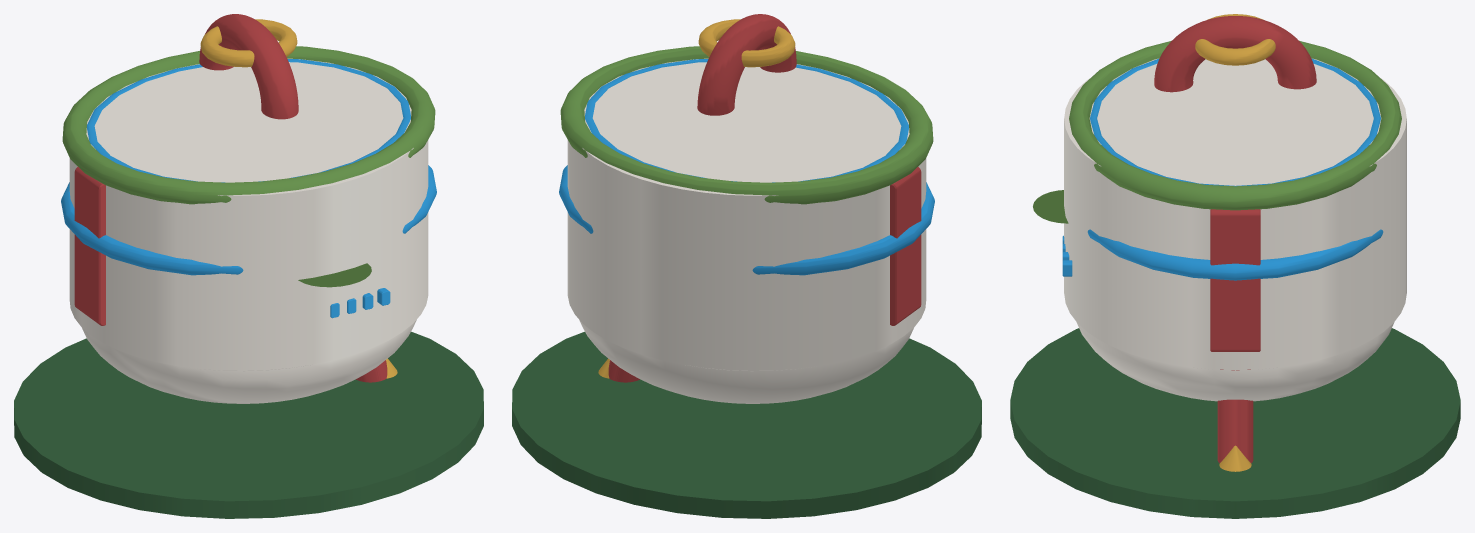
The model's file is 1195_唐图鉴_澡豆.glb.
3 views of the same model, side by side, from view 1: azimuth 30°, elevation 25°; view 2: azimuth 150°, elevation 25°; view 3: azimuth 270°, elevation 25° (orthographic).
Parts seen in each view (by area): view 1: card_1195; view 2: card_1195; view 3: card_1195.
Part boxes in pixels (x1=…): card_1195: x1=14, y1=14, x2=483, y2=518; card_1195: x1=512, y1=14, x2=981, y2=518; card_1195: x1=1010, y1=14, x2=1460, y2=518.
Bounding box in the file's own units: 1.04 × 1 × 0.9847.
